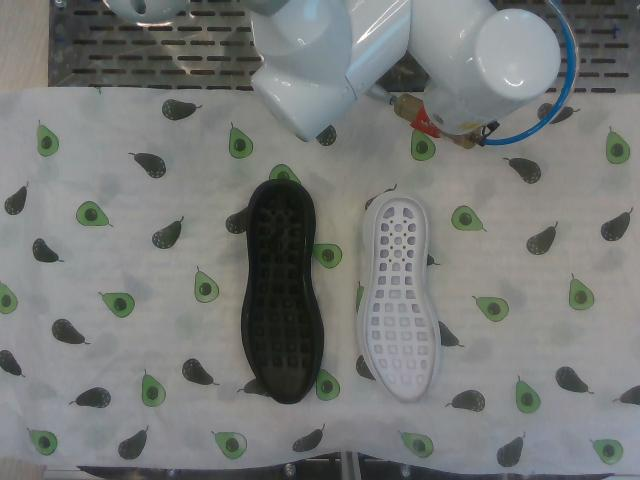shoes: (248, 184, 315, 403), (365, 198, 436, 403)
